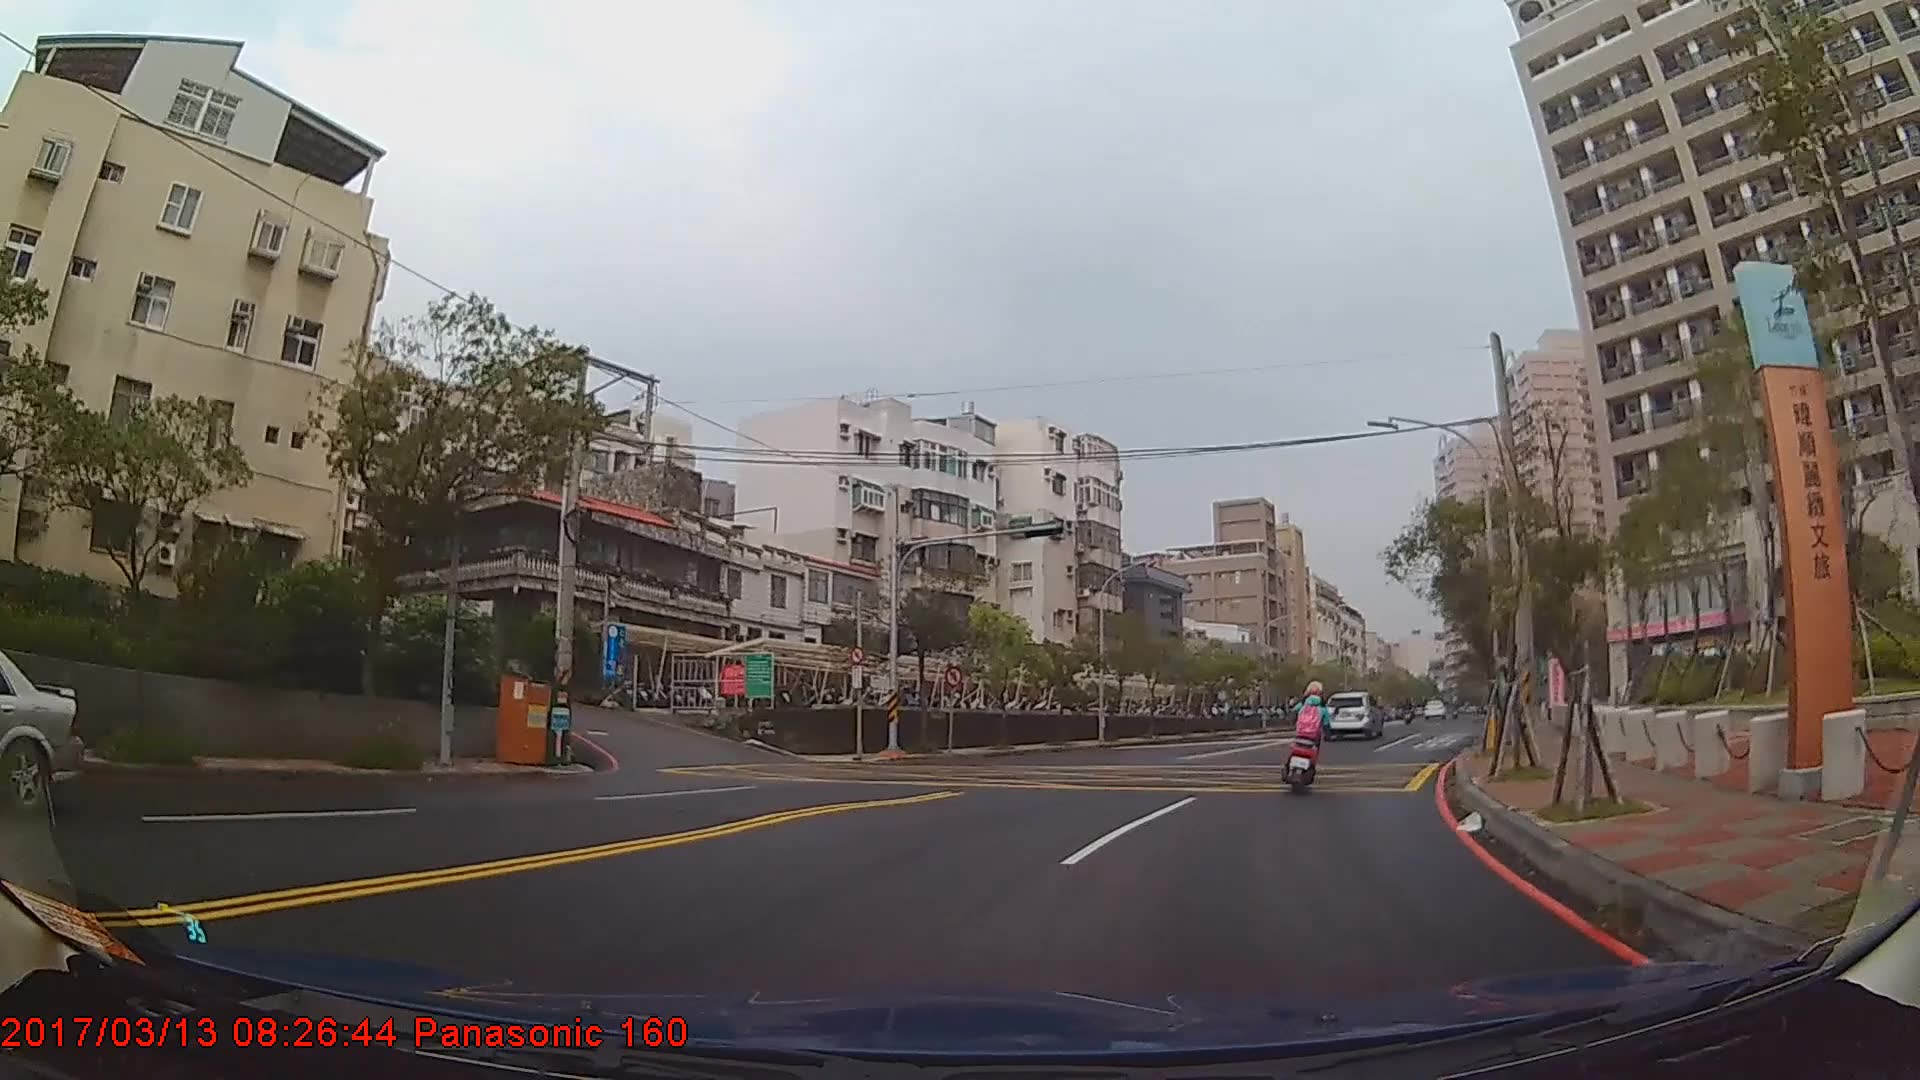rider: (1283, 679, 1334, 790)
vehicle: (0, 647, 84, 814), (1320, 690, 1386, 739)
